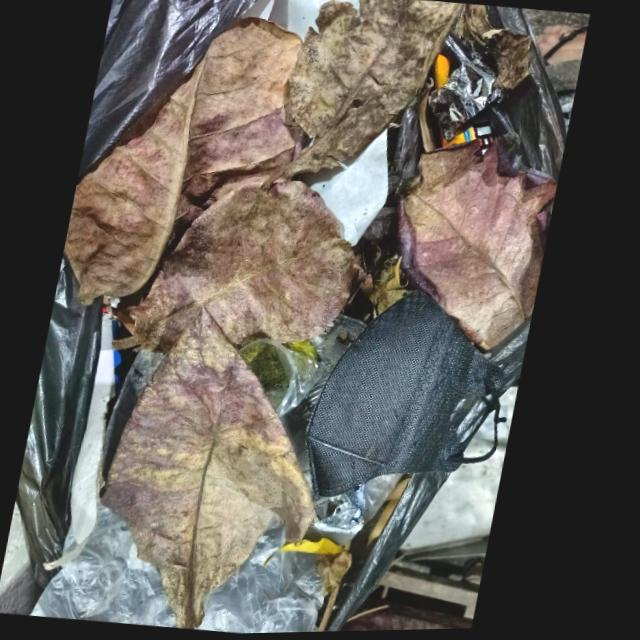biowaste: (110, 316, 325, 630), (68, 18, 303, 305), (118, 181, 360, 353), (404, 139, 561, 356), (284, 0, 463, 178), (274, 539, 354, 568)
